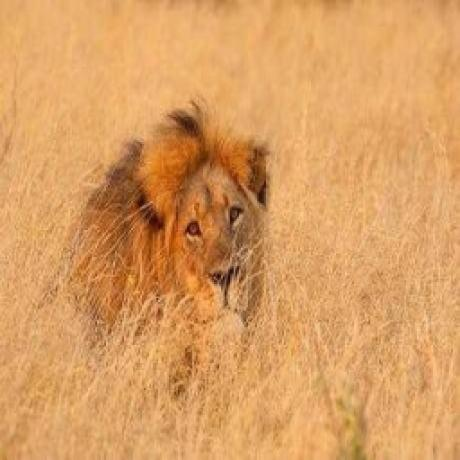Lion: (64, 94, 277, 377)
